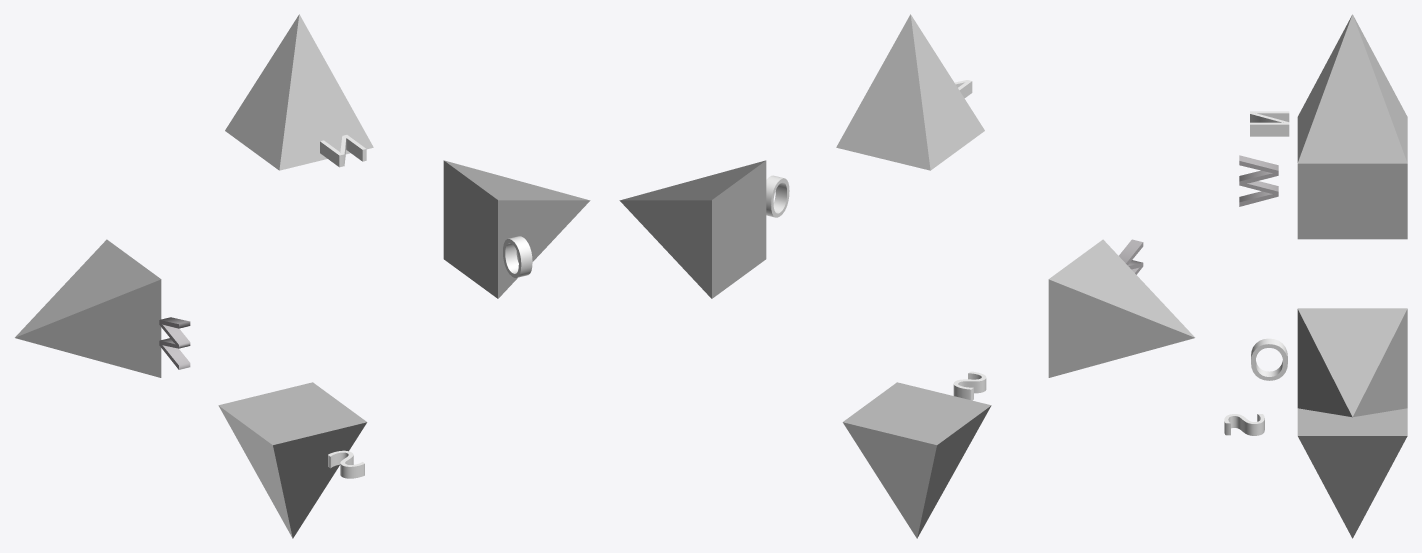
Rendered from compass.fbx.
3 views of the same model, side by side, from view 1: azimuth 30°, elevation 25°; view 2: azimuth 150°, elevation 25°; view 3: azimuth 270°, elevation 25° (orthographic).
Parts seen in each view (by area): view 1: root (×4), node_id66, node_id32, node_id54, node_id72; view 2: root (×4), node_id32, node_id72; view 3: root (×4), node_id66, node_id54, node_id32, node_id72.
Part boxes in pixels (x1,y1,x2,y2): root (×4): (15,14,590,538); node_id66: (159,317,190,369); node_id32: (503,236,532,277); node_id54: (320,135,366,167); node_id72: (328,450,364,478); root (×4): (619,14,1194,538); node_id32: (766,175,789,217); node_id72: (953,371,986,400); root (×4): (1297,14,1407,538); node_id66: (1239,155,1278,206); node_id54: (1250,111,1289,136); node_id32: (1251,338,1287,380); node_id72: (1224,414,1264,435).
Size of the model in its own units: 0.7648 by 0.664 by 0.2089.
5 materials, 4 textured.
